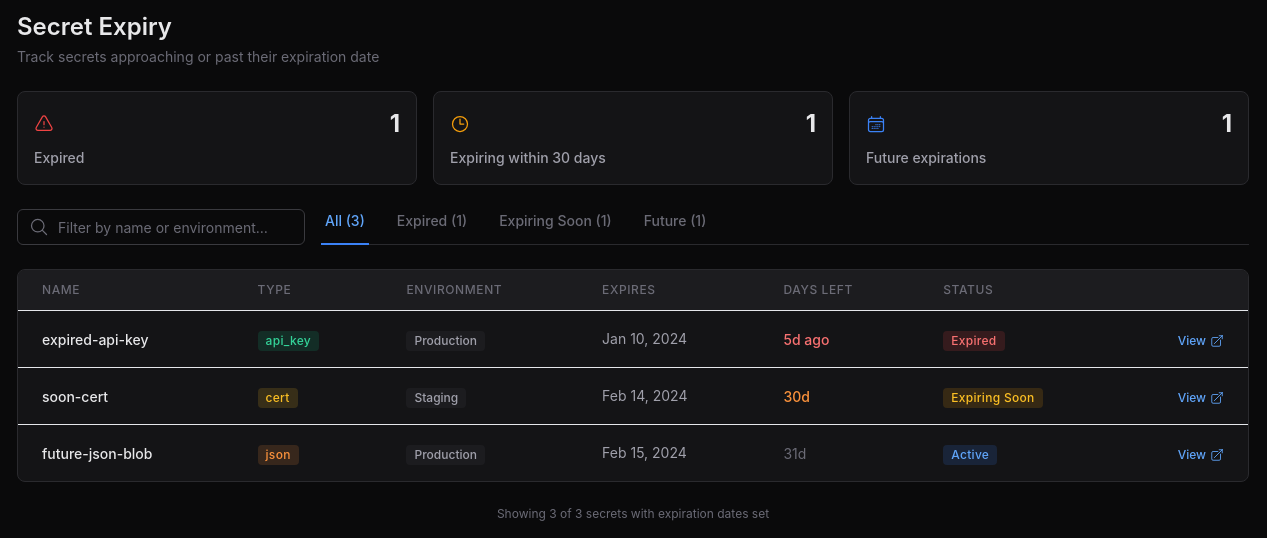
Scenario: SecretExpiryPage › filters the table via the summary cards for expired/soon/future
This screenshot has width=1267, height=538.
Expected: the text "expired-api-key" is shown, [42, 331, 148, 348]
Click the 1st text "Expired" at (59, 158), box [34, 149, 84, 166]
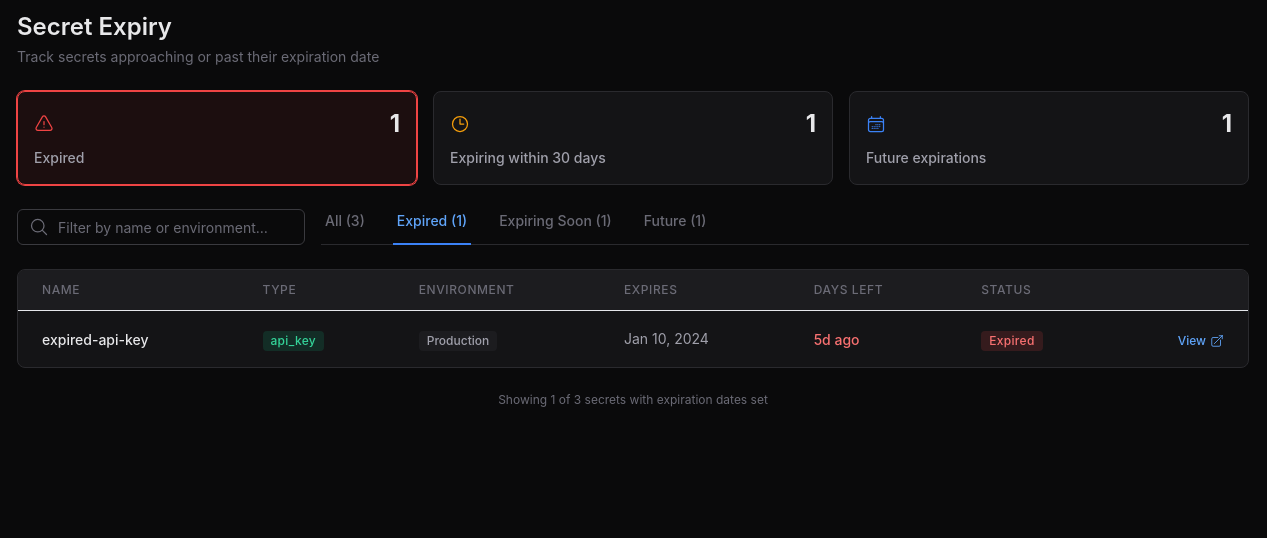
Expected: the text "expired-api-key" is shown, [42, 331, 148, 348]
Expected: the text "soon-cert" is gone
Expected: the text "future-json-blob" is gone
Click the text "Expiring within 30 days" at (528, 158), box [450, 149, 606, 166]
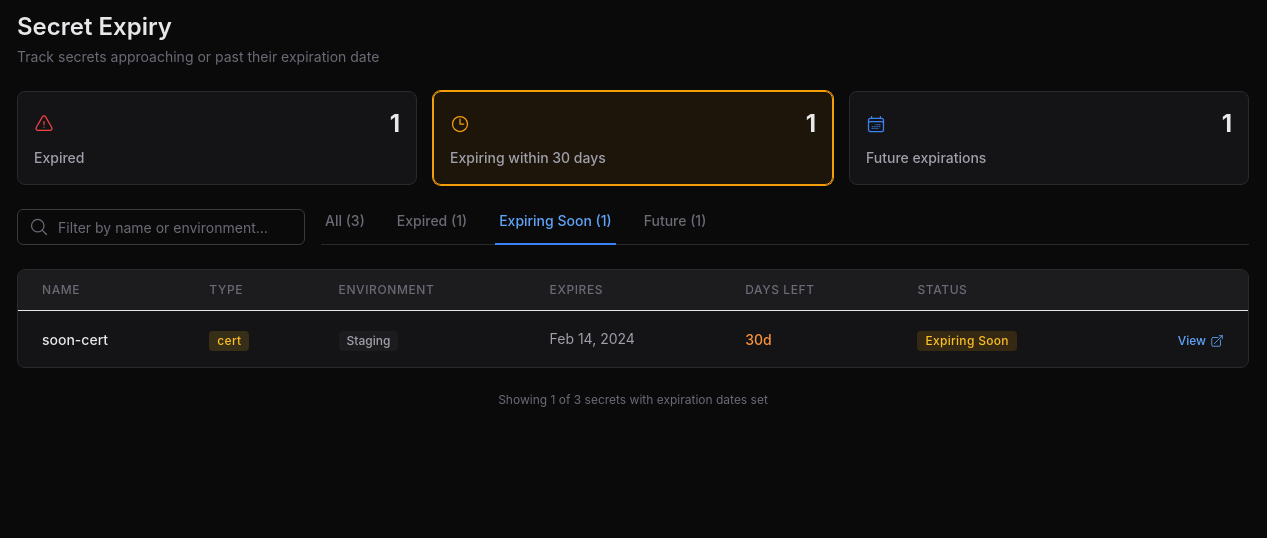
Expected: the text "future-json-blob" is not shown
Expected: the text "soon-cert" is shown, [42, 331, 108, 348]
Expected: the text "expired-api-key" is gone
Click the text "Future expirations" at (926, 158), box [866, 149, 986, 166]
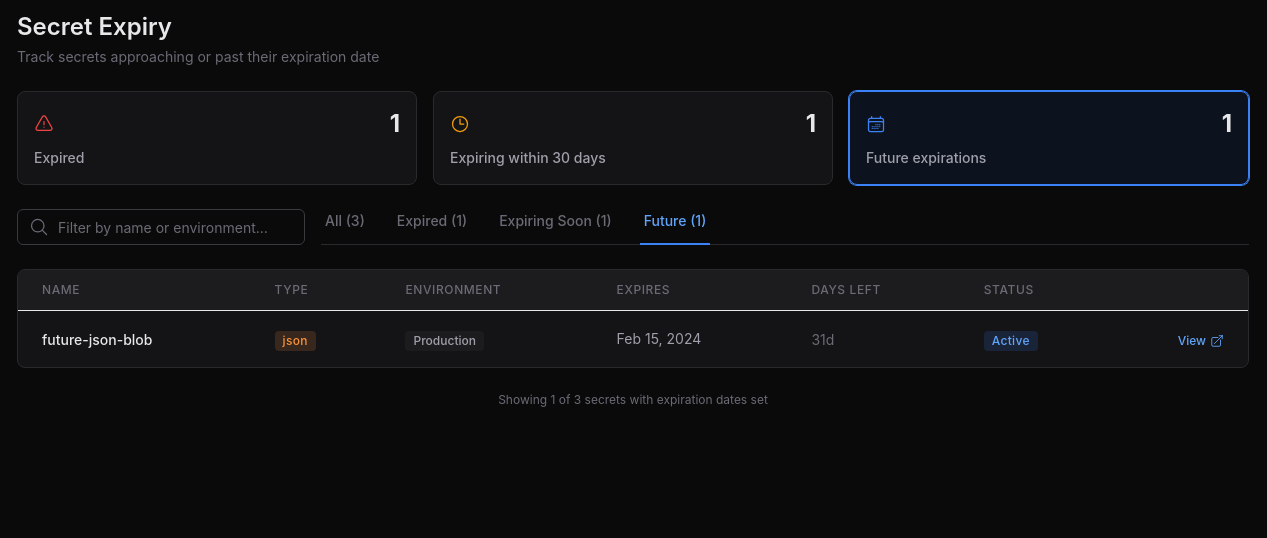
Expected: the text "expired-api-key" is not shown
Expected: the text "future-json-blob" is shown, [42, 331, 152, 348]
Expected: the text "soon-cert" is gone
